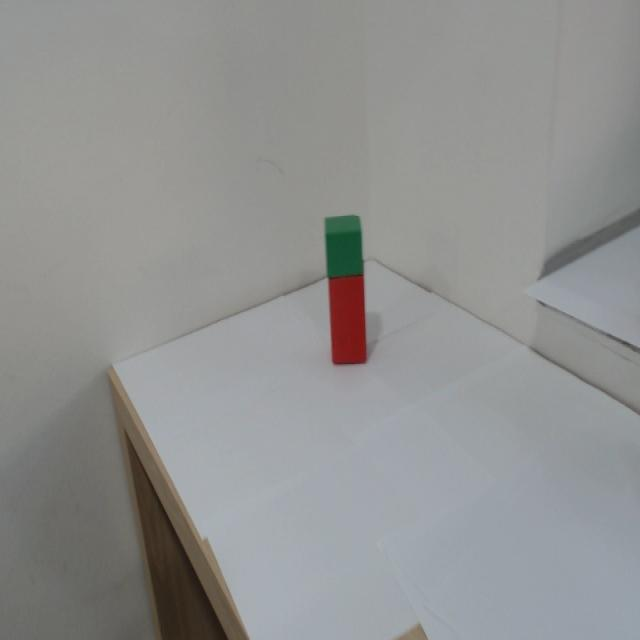cube: (316, 201, 375, 279)
